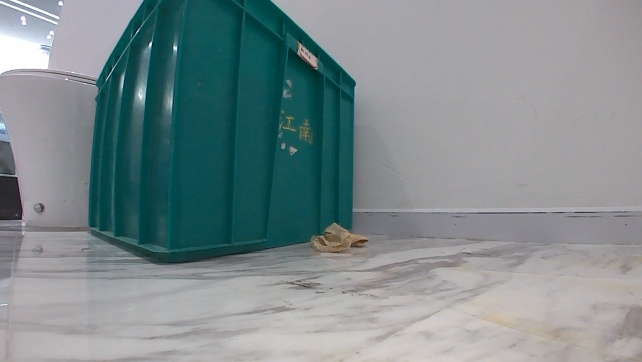socks: (307, 220, 370, 255)
toilet: (0, 62, 100, 233)
